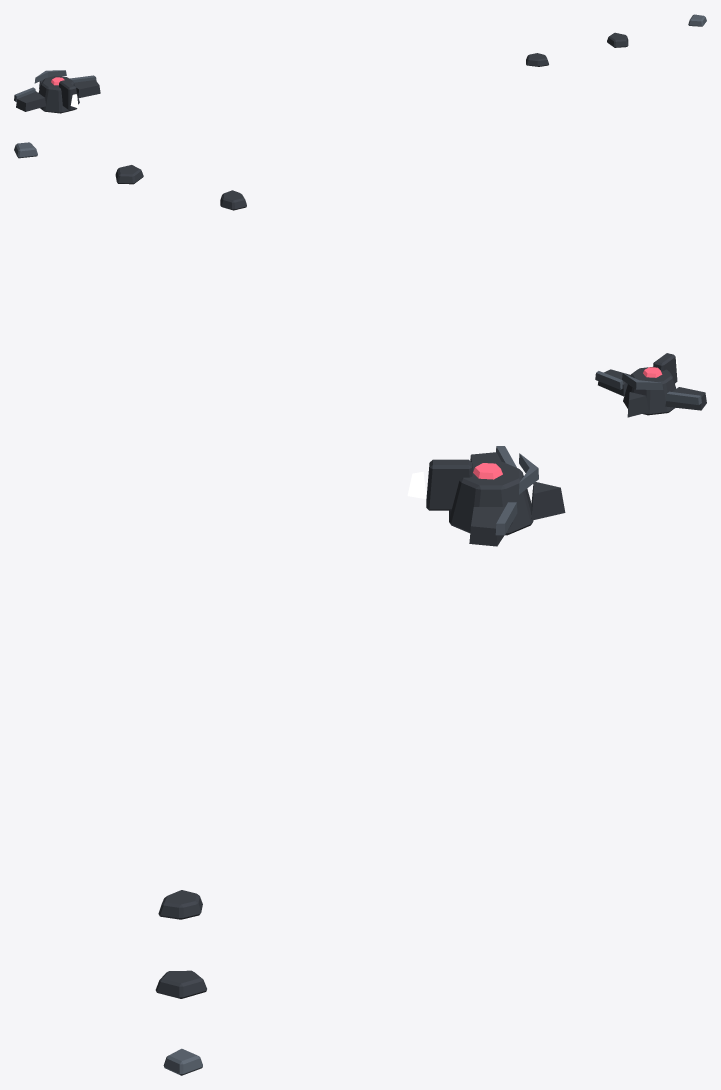
The model's file is Enemy_Swarmling_v4.fbx.
The picture shows the model from 3 angles, top to bottom: view 1: azimuth 30°, elevation 25°; view 2: azimuth 150°, elevation 25°; view 3: azimuth 270°, elevation 25°; orthographic projection. The views are drawn at different scales.
Parts seen in each view (by area): view 1: Body, Leg_02, Leg_01, Thruster_Main, Enemy_Swarmling_v4_Chunk_01, Enemy_Swarmling_v4_Chunk_02, Trim_Ring, Enemy_Swarmling_v4_Chunk_03; view 2: Body, Leg_02, Enemy_Swarmling_v4_Chunk_02; view 3: Body, Thruster_Main, Leg_01, Enemy_Swarmling_v4_Chunk_02, Head, Enemy_Swarmling_v4_Chunk_01.
Boxes of the visible parts, box(x1,y1,x2,y2) form: Body: box(38, 75, 79, 113); Leg_02: box(16, 91, 45, 111); Leg_01: box(74, 80, 100, 97); Thruster_Main: box(59, 80, 77, 110); Enemy_Swarmling_v4_Chunk_01: box(526, 53, 548, 66); Enemy_Swarmling_v4_Chunk_02: box(607, 32, 628, 47); Trim_Ring: box(34, 70, 66, 83); Enemy_Swarmling_v4_Chunk_03: box(688, 14, 706, 26); Body: box(623, 367, 676, 415); Leg_02: box(665, 387, 706, 410); Enemy_Swarmling_v4_Chunk_02: box(115, 165, 143, 184); Body: box(449, 462, 533, 535); Thruster_Main: box(426, 459, 472, 510); Leg_01: box(469, 507, 512, 546); Enemy_Swarmling_v4_Chunk_02: box(155, 970, 206, 998); Head: box(531, 482, 565, 520); Enemy_Swarmling_v4_Chunk_01: box(158, 890, 202, 919).
Size of the model in its own units: 4.56 by 0.2 by 1.32.
